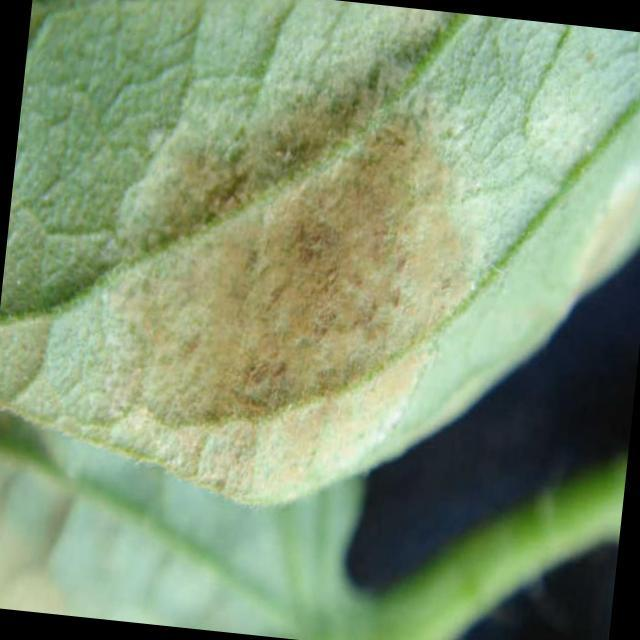Leaf Mold: (1, 54, 523, 516)
